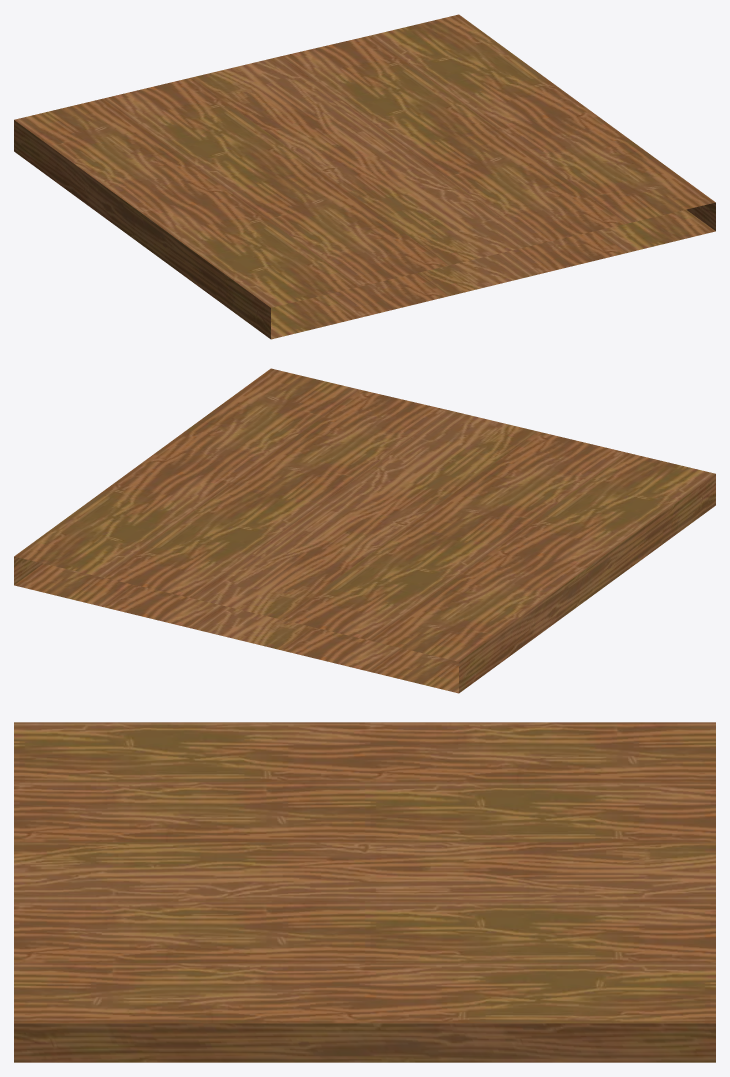
The model's file is roof_wooden_2x1_middle.glb.
3 renders of one model, top to bottom at view 1: azimuth 30°, elevation 25°; view 2: azimuth 150°, elevation 25°; view 3: azimuth 270°, elevation 25°, orthographic. The views are drawn at different scales.
Size of the model in its own units: 2 by 0.1379 by 2.
1 material, 1 textured.
